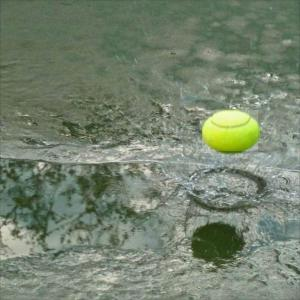TennisBall: (203, 111, 260, 153)
